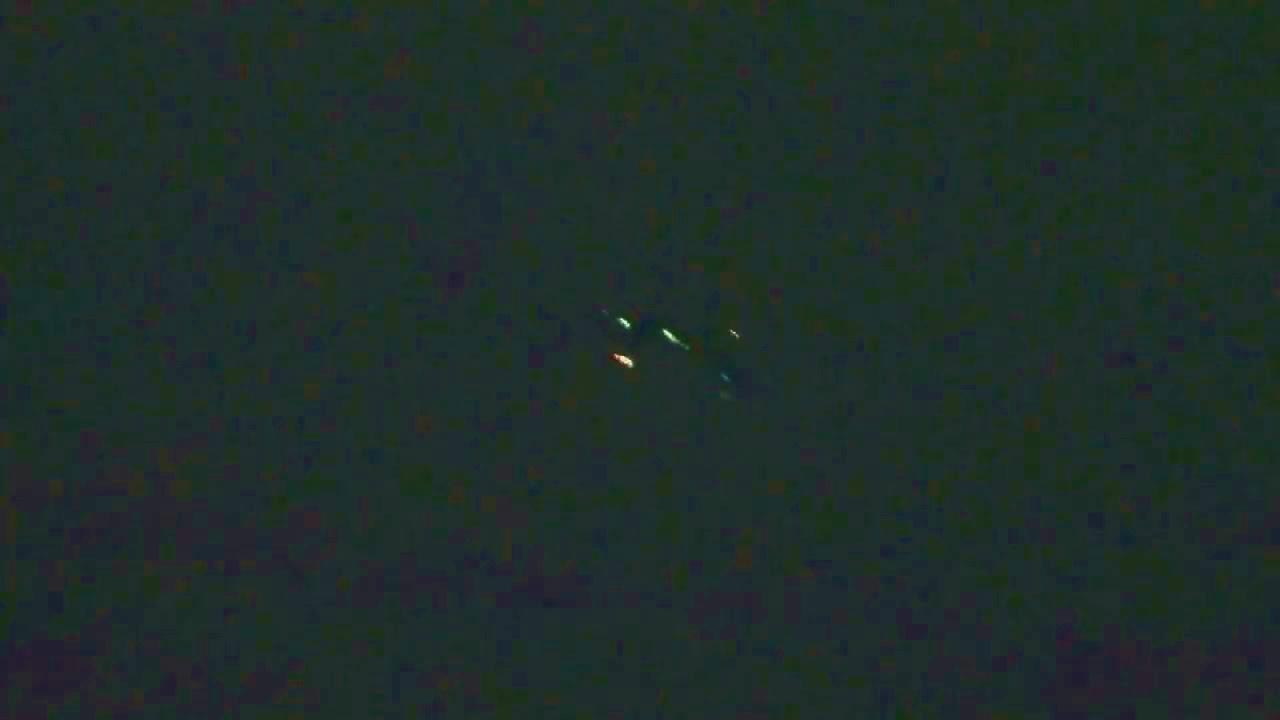Plane: (593, 283, 775, 437)
